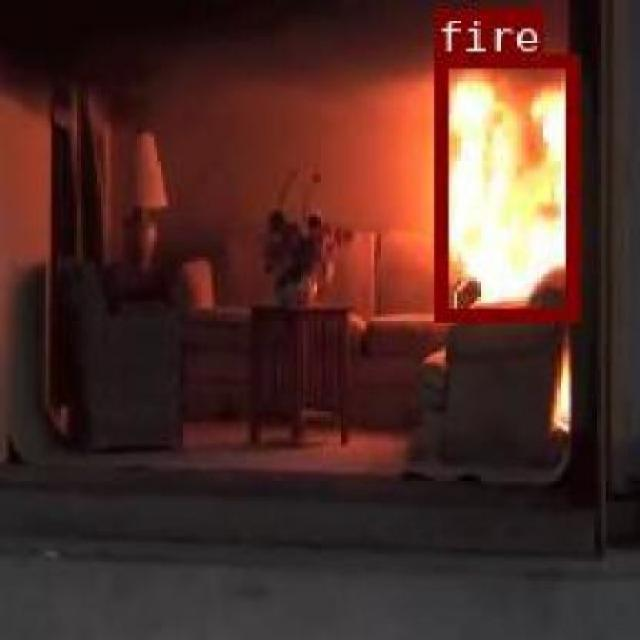Fire: (432, 51, 577, 318)
